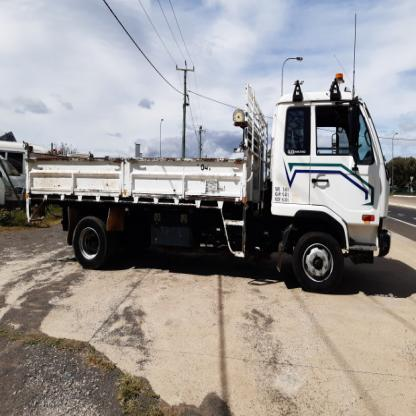dump_truck: (31, 72, 387, 298)
